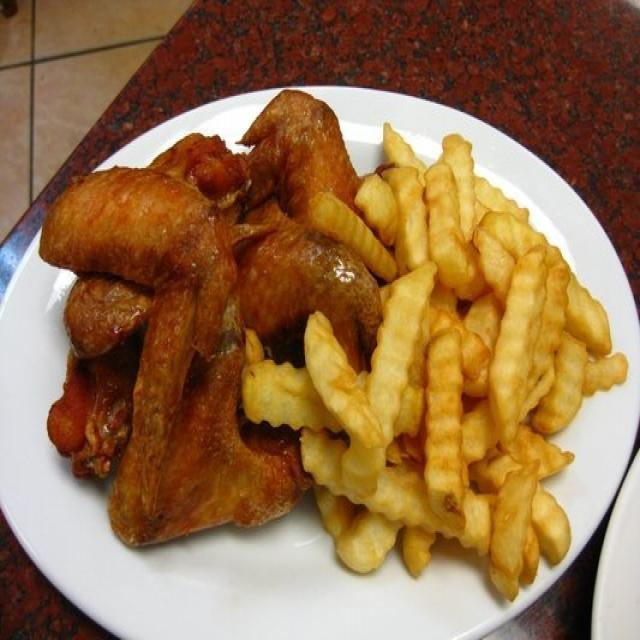Deep fried chicken wing: (46, 92, 363, 519)
French fries: (319, 124, 619, 575)
